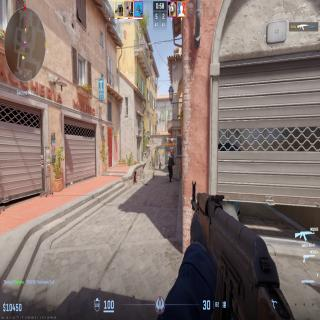CT-Body: (168, 153, 174, 183)
CT-Head: (170, 154, 173, 158)
T-Body: (159, 159, 161, 169)
T-Head: (160, 159, 160, 161)
